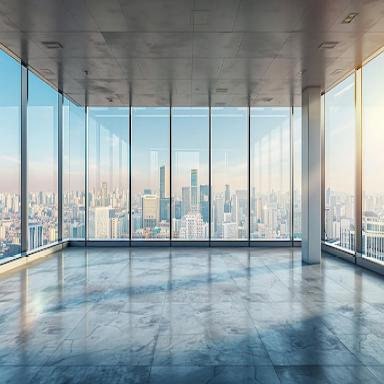glass_panel: (325, 72, 356, 254), (27, 70, 58, 251), (89, 109, 129, 241), (252, 110, 290, 240), (212, 108, 249, 240), (253, 110, 290, 240), (362, 49, 384, 263), (173, 110, 209, 240), (133, 109, 169, 238), (0, 47, 20, 260), (67, 103, 85, 243), (294, 107, 302, 240)
